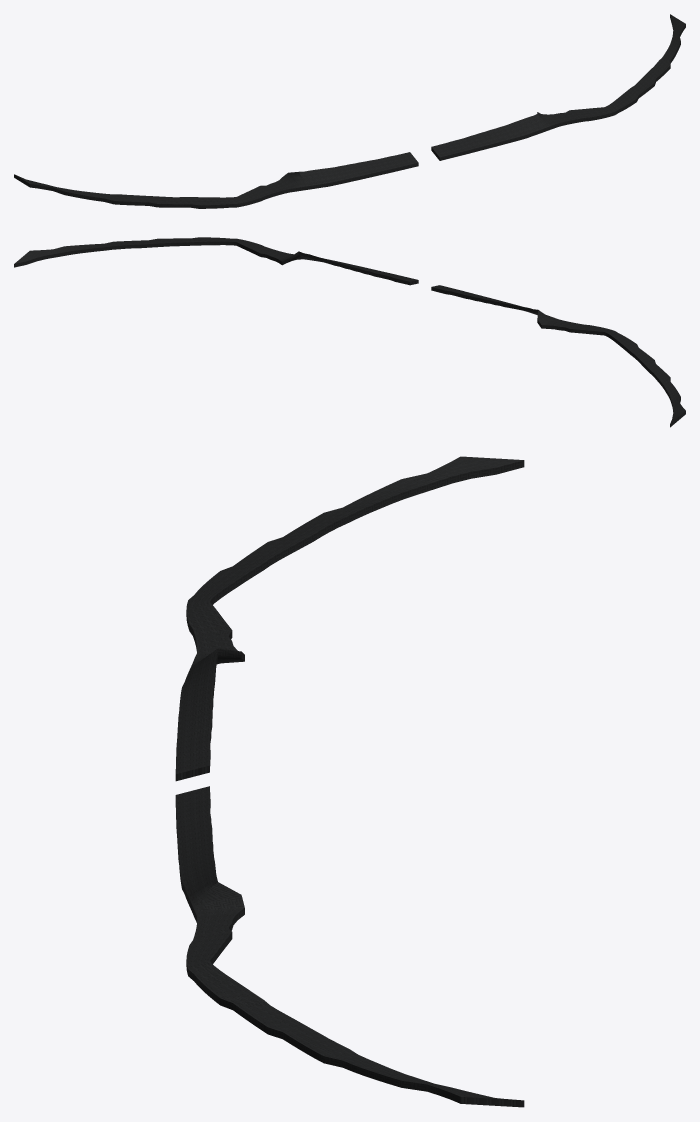
The model's file is FA20_msr_split_lip.glb.
3 renders of one model, top to bottom at view 1: azimuth 30°, elevation 25°; view 2: azimuth 150°, elevation 25°; view 3: azimuth 270°, elevation 25°, orthographic. The views are drawn at different scales.
Visible parts, largest first — view 1: MOD_ND_FA20_lip_section_0, MOD_ND_FA20_lip_section_1; view 2: MOD_ND_FA20_lip_section_1, MOD_ND_FA20_lip_section_0; view 3: MOD_ND_FA20_lip_section_1, MOD_ND_FA20_lip_section_0.
Boxes of the visible parts, x1,y1,x2,y2 form: MOD_ND_FA20_lip_section_0: (14,152,418,208); MOD_ND_FA20_lip_section_1: (431,14,685,160); MOD_ND_FA20_lip_section_1: (14,237,418,285); MOD_ND_FA20_lip_section_0: (431,285,685,427); MOD_ND_FA20_lip_section_1: (175,786,524,1107); MOD_ND_FA20_lip_section_0: (175,456,524,781).
Size of the model in its own units: 1.55 by 0.03 by 0.3568.
1 material, 1 textured.
